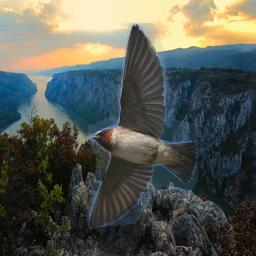Swallow: (88, 23, 198, 230)
